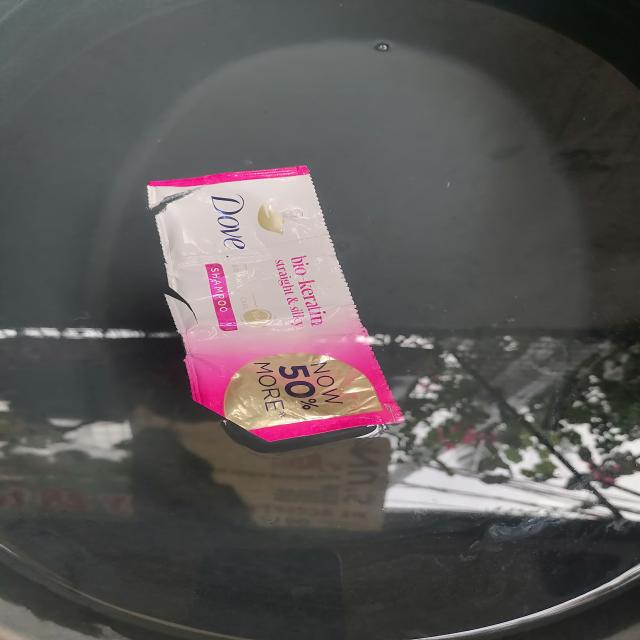Plastic Wrapper: (108, 158, 423, 459)
